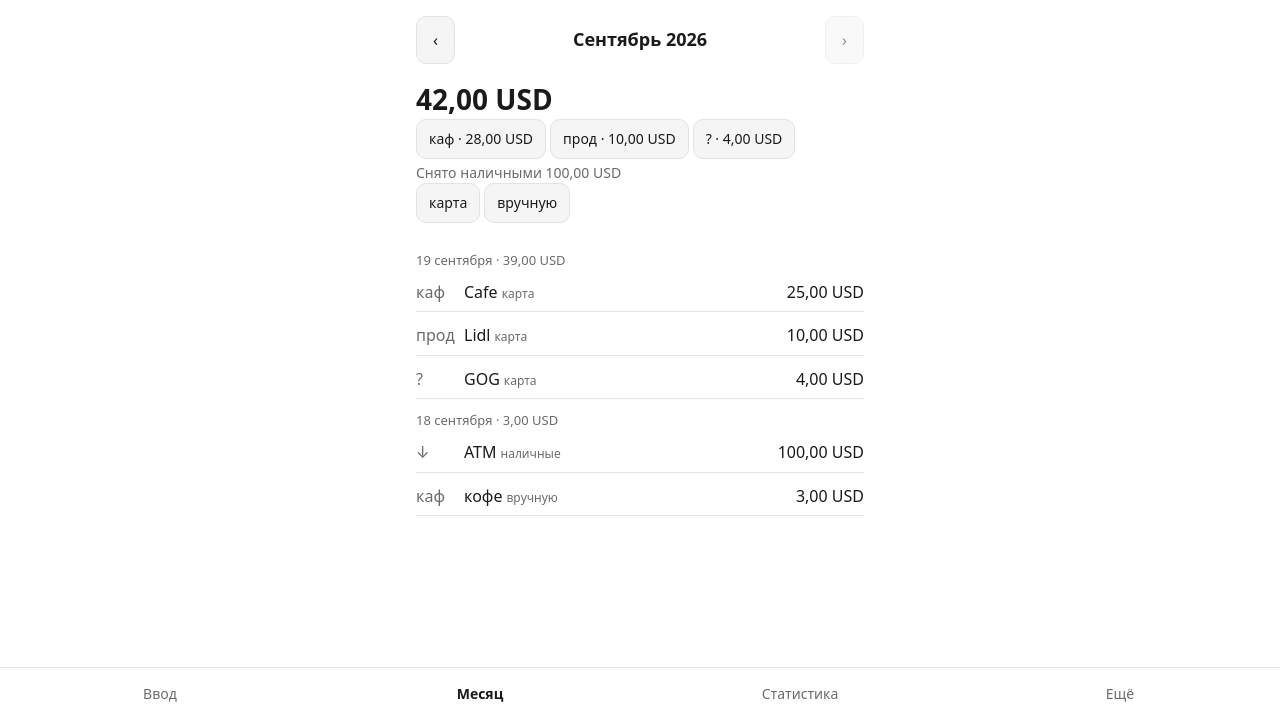
MonthScreen › фильтр источника не оставляет пустой экран при смене месяца
Click the button "вручную" at coordinates (527, 203), box [484,183,570,223]
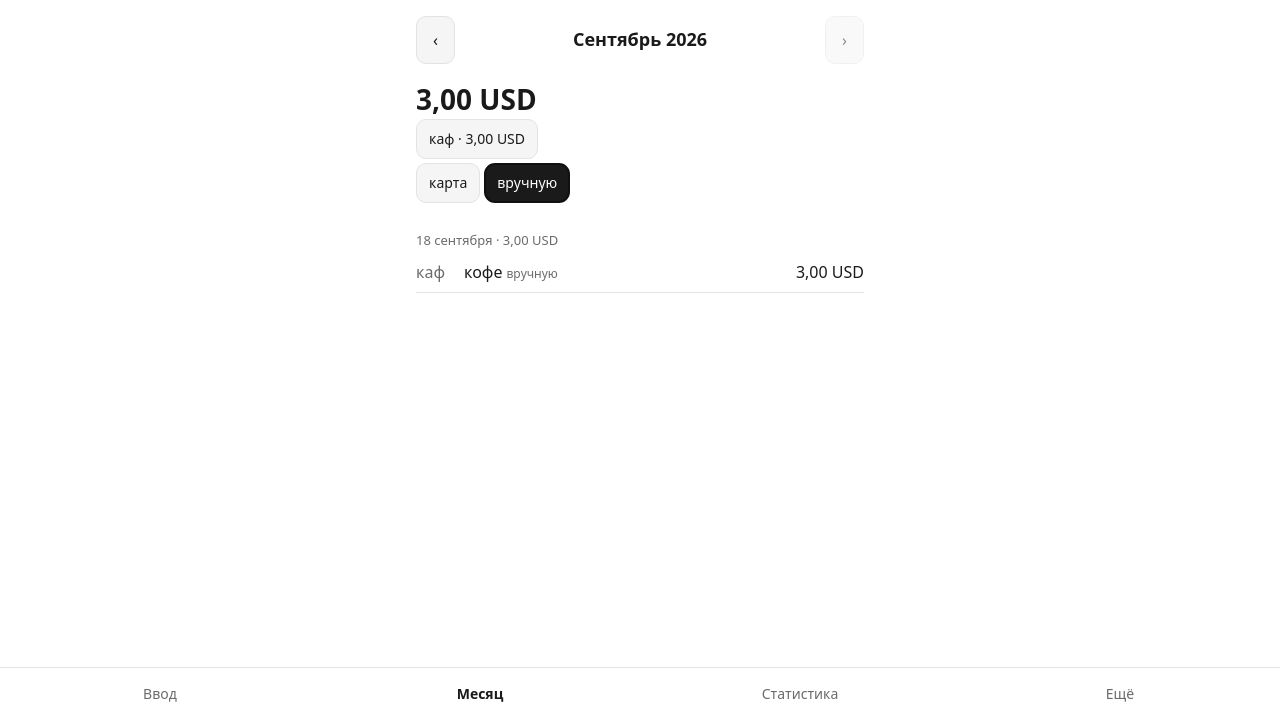
Click the button named "Предыдущий месяц" at coordinates (436, 40), box [416,16,455,64]
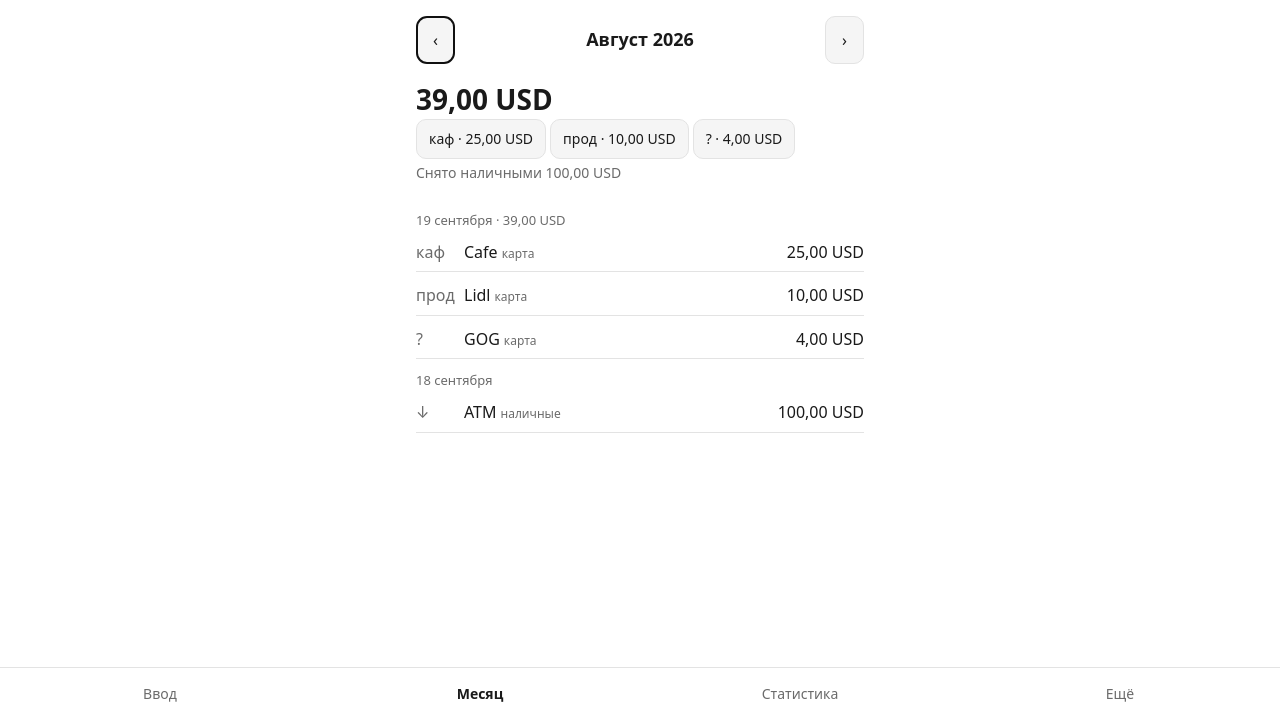
Expected: the text "Lidl" is shown, [464,284,490,306]
